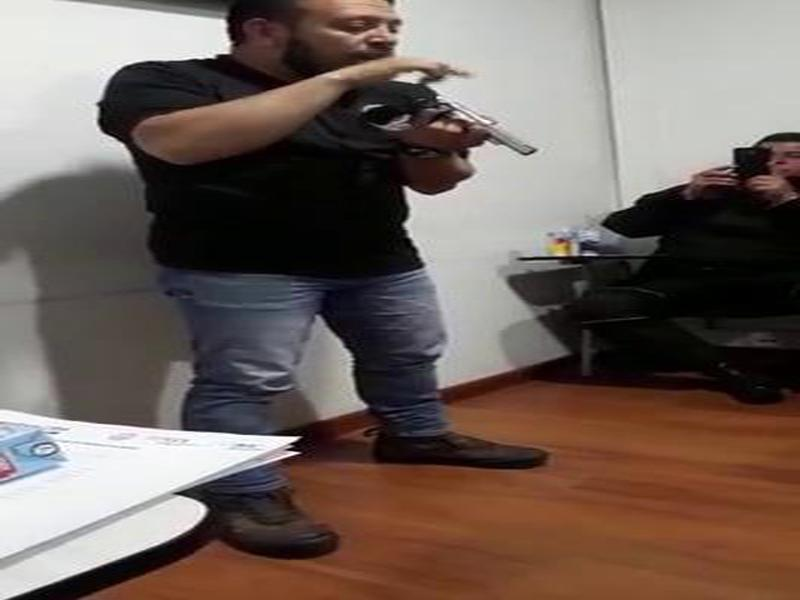Revolver: (407, 81, 557, 193)
